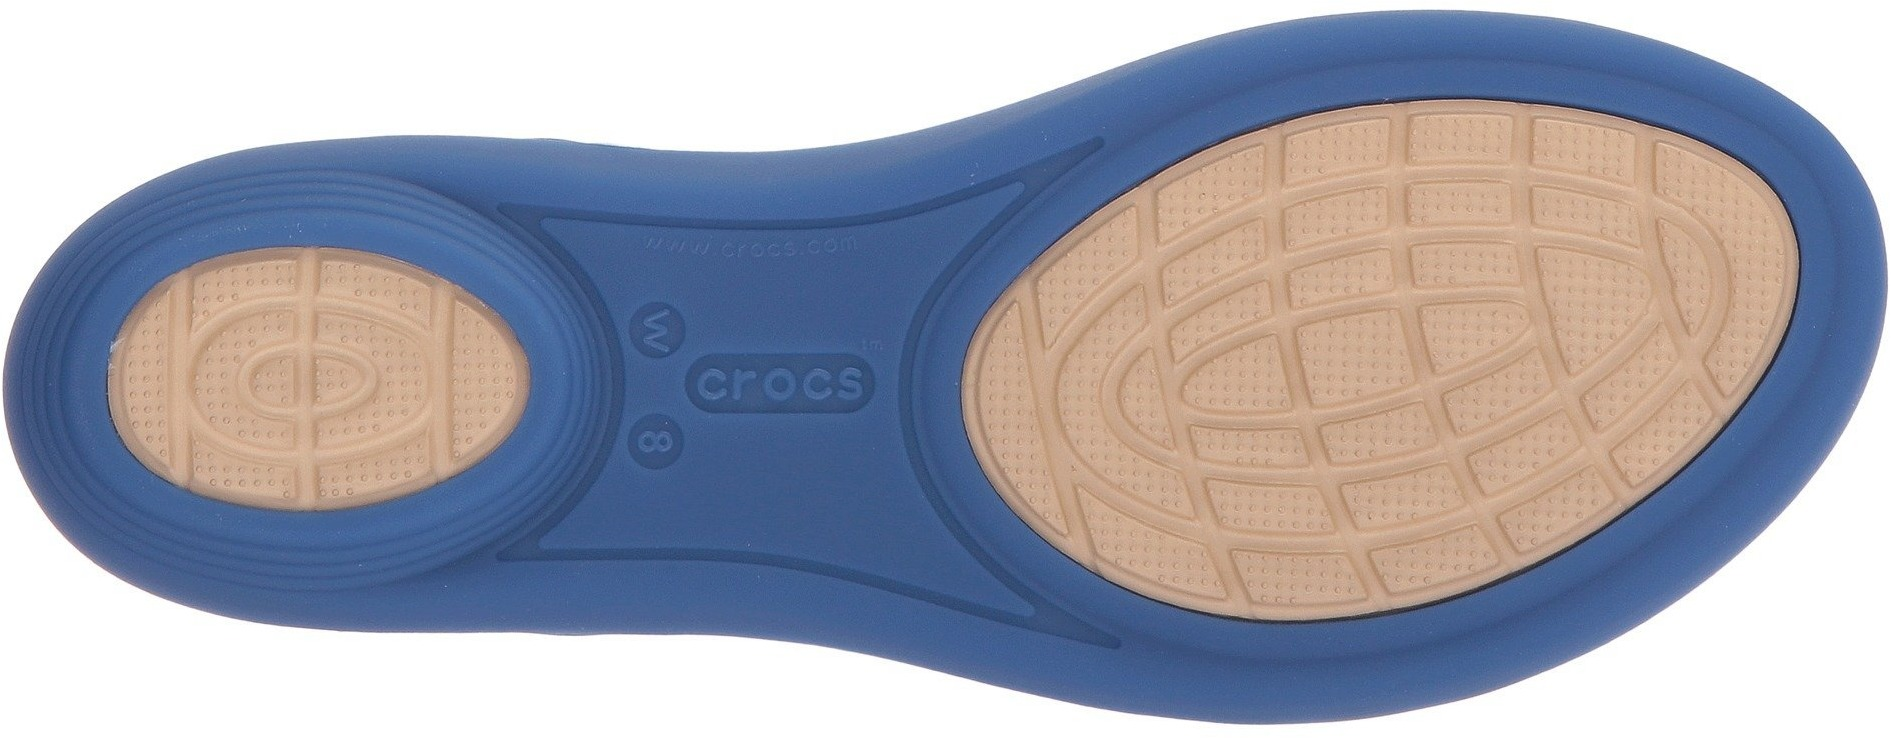circle: (691, 336, 796, 443)
other: (781, 445, 900, 572)
quad: (1153, 198, 1454, 449), (1140, 451, 1318, 616), (1463, 121, 1627, 252), (1341, 465, 1494, 598)
text: (691, 336, 796, 443), (801, 342, 886, 437)
